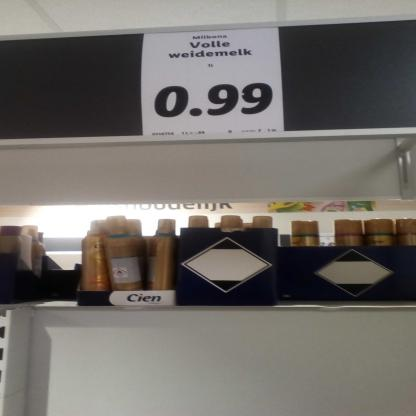prtg: (142, 28, 285, 137)
